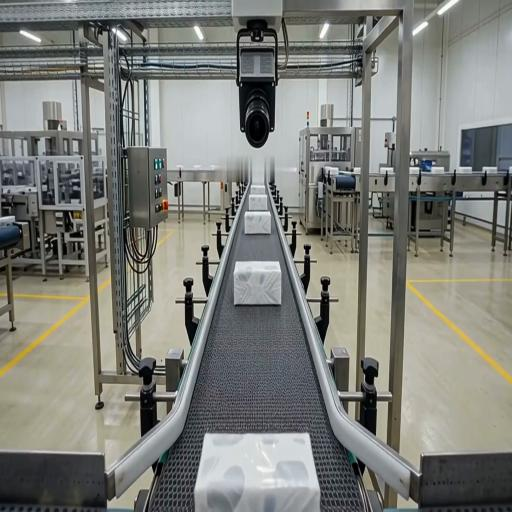good: (196, 432, 318, 511), (232, 262, 282, 306), (244, 210, 272, 235), (246, 194, 268, 212), (249, 184, 266, 195)
